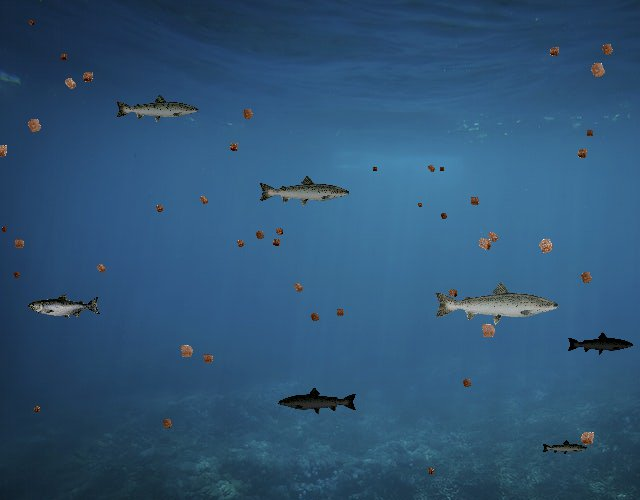Fish: (432, 280, 561, 326), (257, 174, 351, 208), (114, 93, 200, 124), (277, 387, 358, 416), (29, 293, 102, 320), (566, 332, 634, 356), (541, 439, 588, 456)
Pellet: (573, 424, 601, 452), (471, 231, 498, 258), (58, 71, 83, 96), (574, 265, 598, 289), (423, 464, 438, 478), (30, 402, 44, 416), (25, 16, 37, 28)
